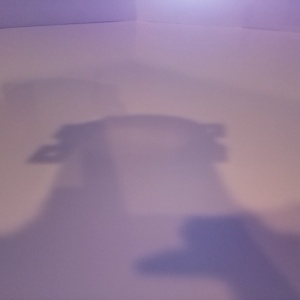alive_ball: (50, 57, 138, 146), (229, 18, 300, 101)
